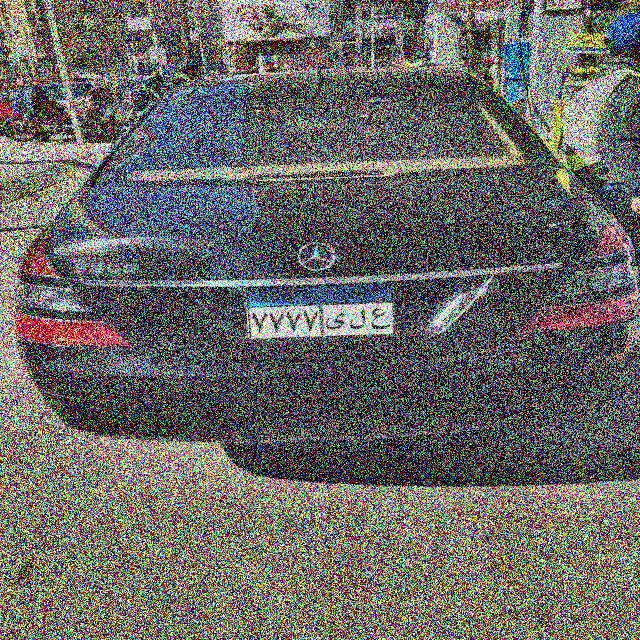License Plate: (244, 282, 397, 341)
